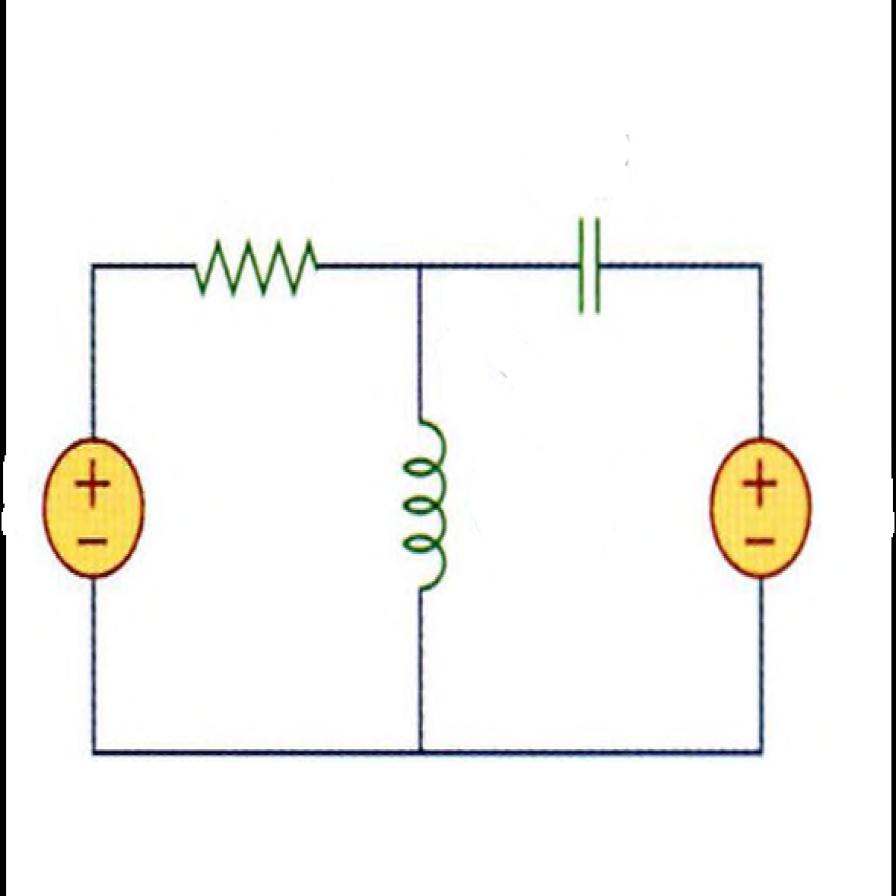C1: (555, 195, 620, 334)
L2: (386, 404, 462, 623)
R1: (175, 213, 333, 322)
V1: (698, 412, 820, 595), (31, 429, 156, 592)
